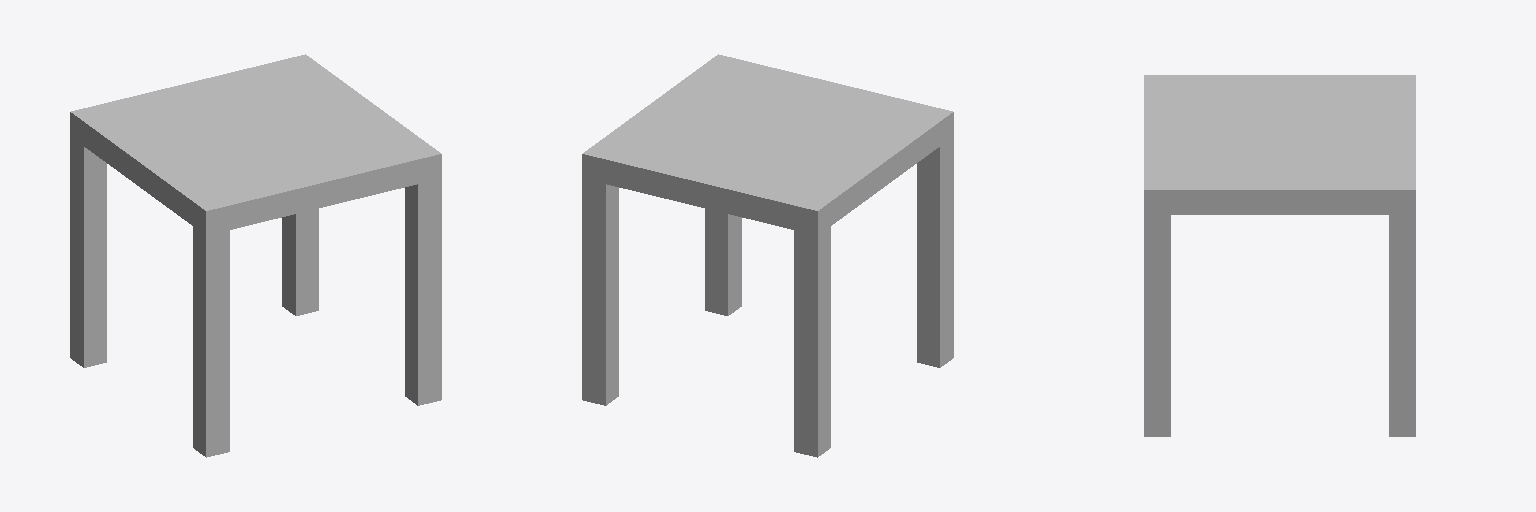
File: table.obj
3 views of the same model, side by side, from view 1: azimuth 30°, elevation 25°; view 2: azimuth 150°, elevation 25°; view 3: azimuth 270°, elevation 25° (orthographic).
Parts seen in each view (by area): view 1: table; view 2: table; view 3: table.
Boxes of the visible parts, x1=… form: table: x1=70, y1=54, x2=441, y2=457; table: x1=582, y1=54, x2=953, y2=457; table: x1=1144, y1=75, x2=1415, y2=436.
Size of the model in its own units: 2 by 2 by 2.